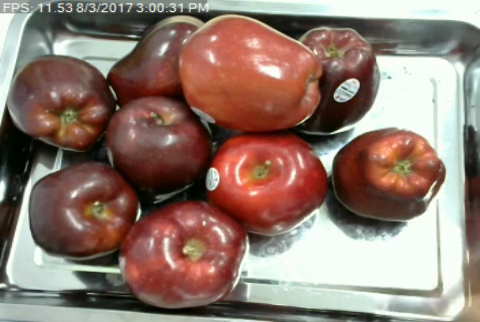Apple: (176, 12, 325, 135), (116, 197, 251, 311), (205, 129, 329, 237), (26, 159, 141, 262), (103, 89, 213, 194), (331, 124, 447, 223), (3, 51, 116, 150), (294, 23, 382, 138), (104, 14, 205, 104)
